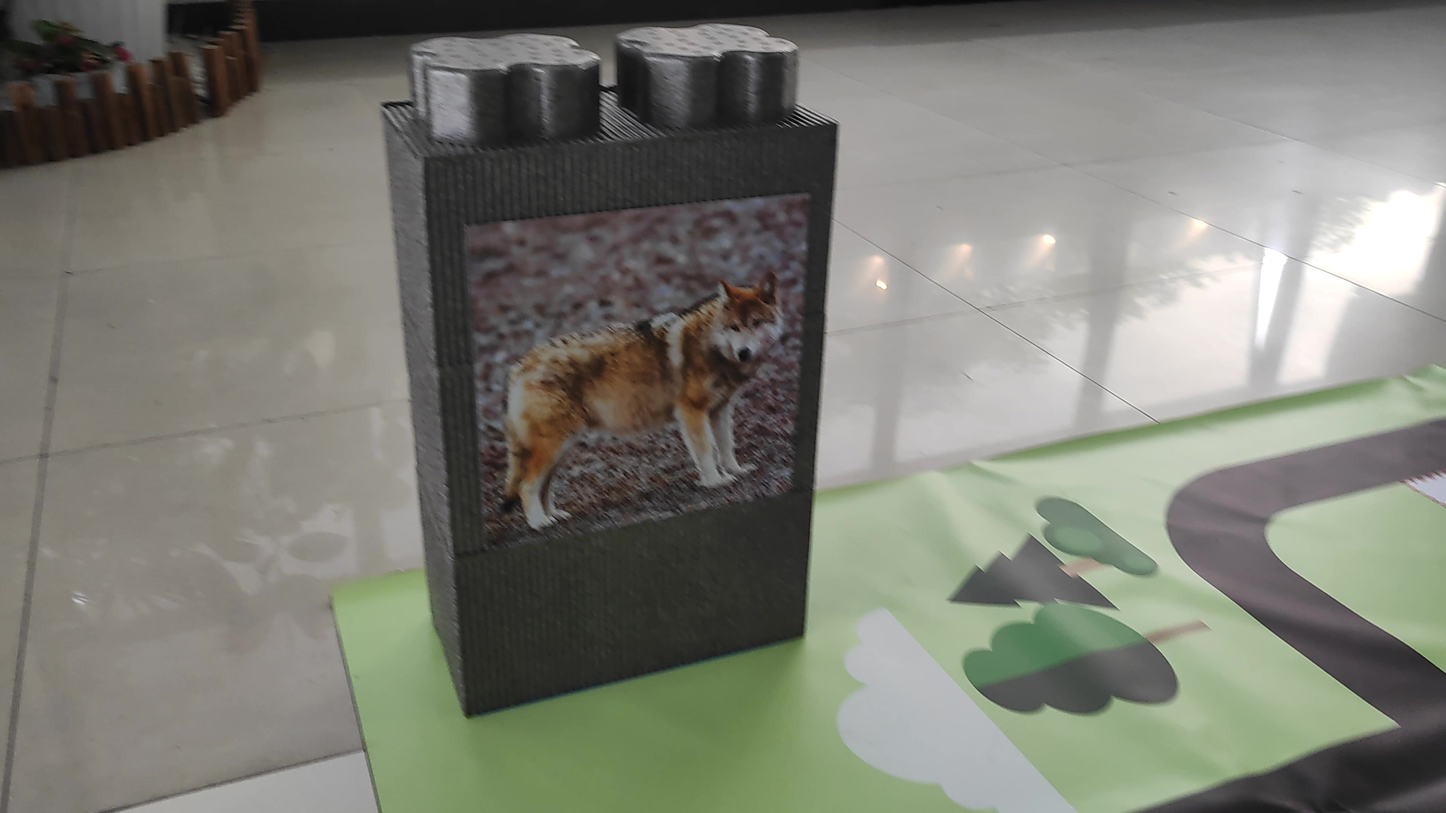wolf: (472, 196, 795, 519)
